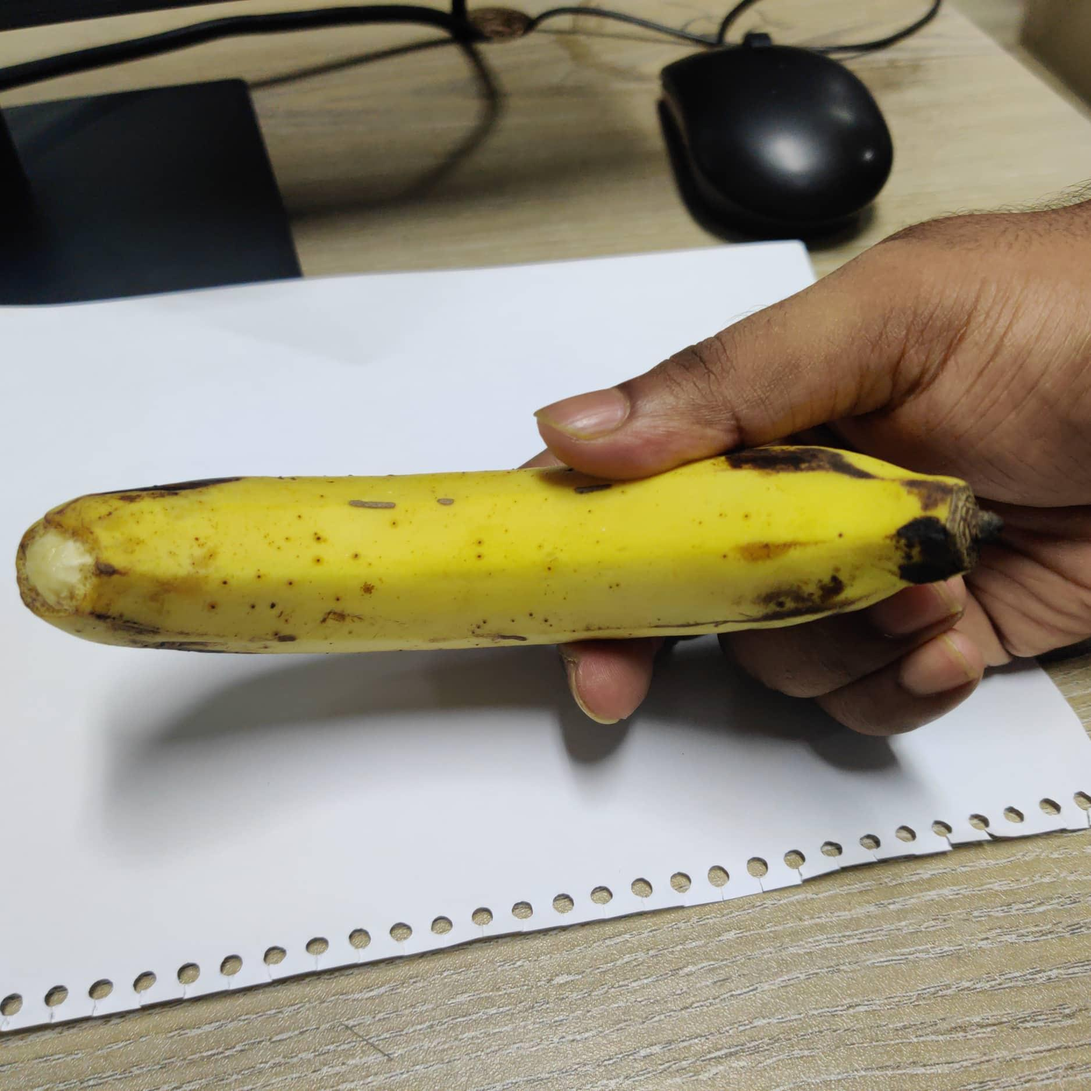Banana Ripe: (10, 421, 1039, 687)
